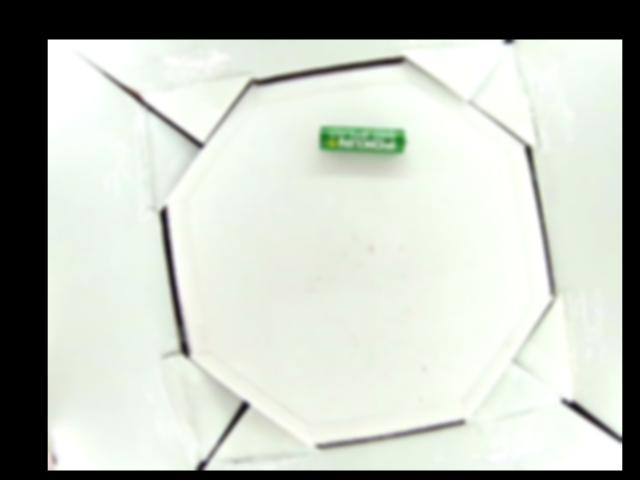Battery: (317, 125, 407, 154)
